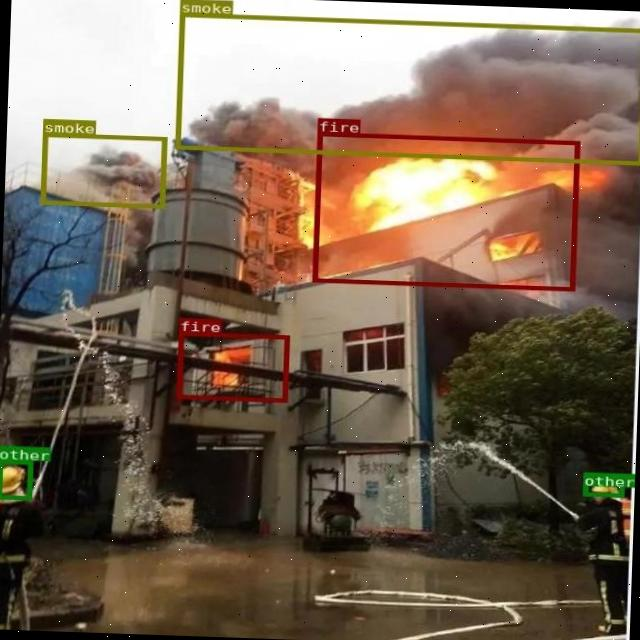fire: (312, 131, 578, 290), (175, 331, 288, 401)
smoke: (175, 12, 640, 164), (40, 132, 166, 208)
